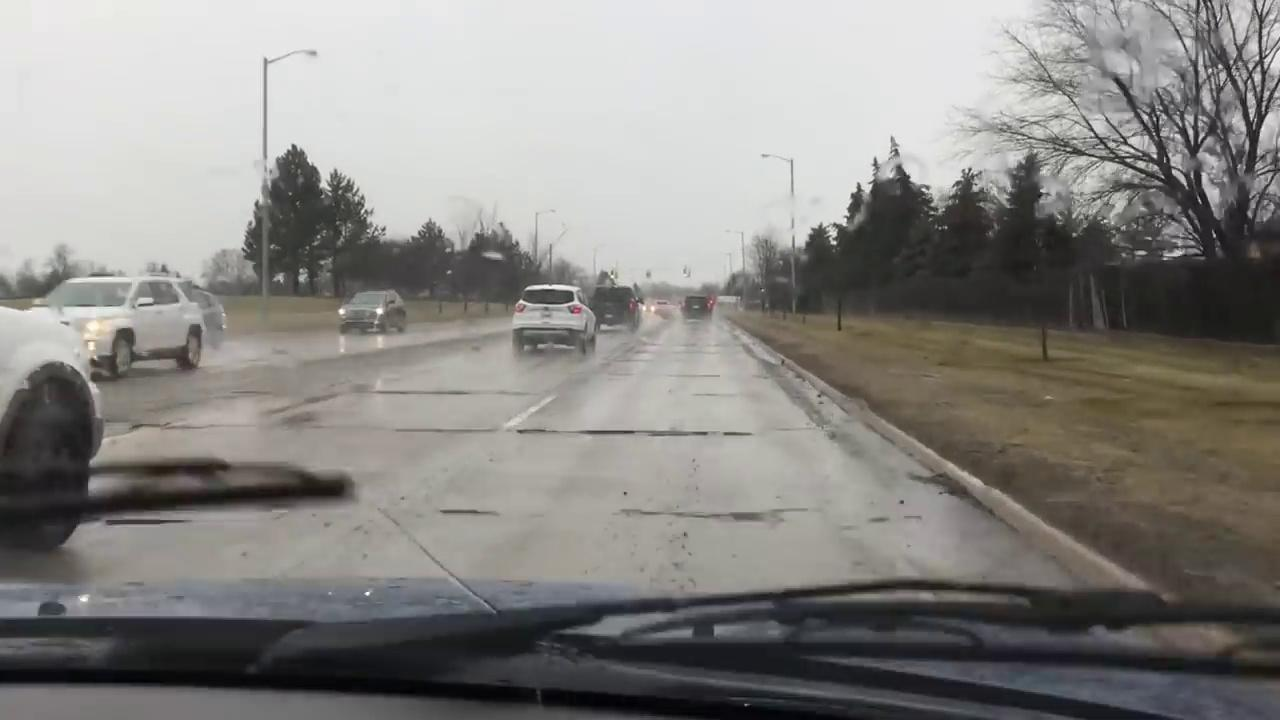pothole: (620, 505, 813, 526), (513, 425, 755, 437), (394, 425, 498, 433), (435, 507, 501, 519)
